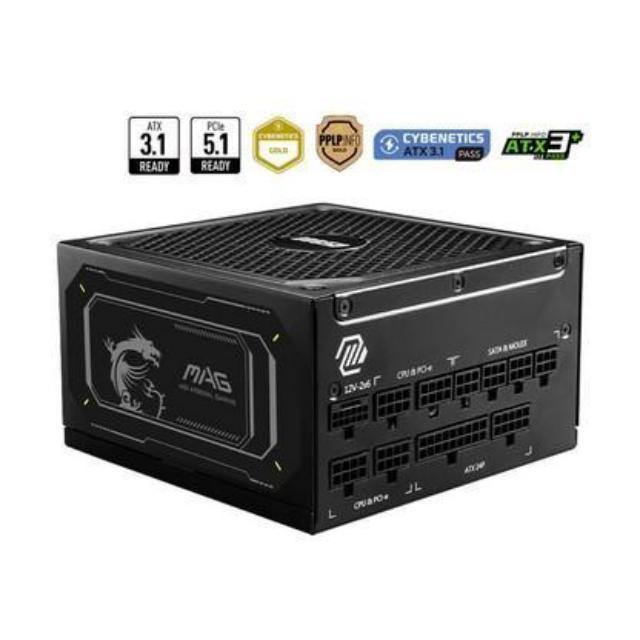PSU: (51, 198, 584, 534)
